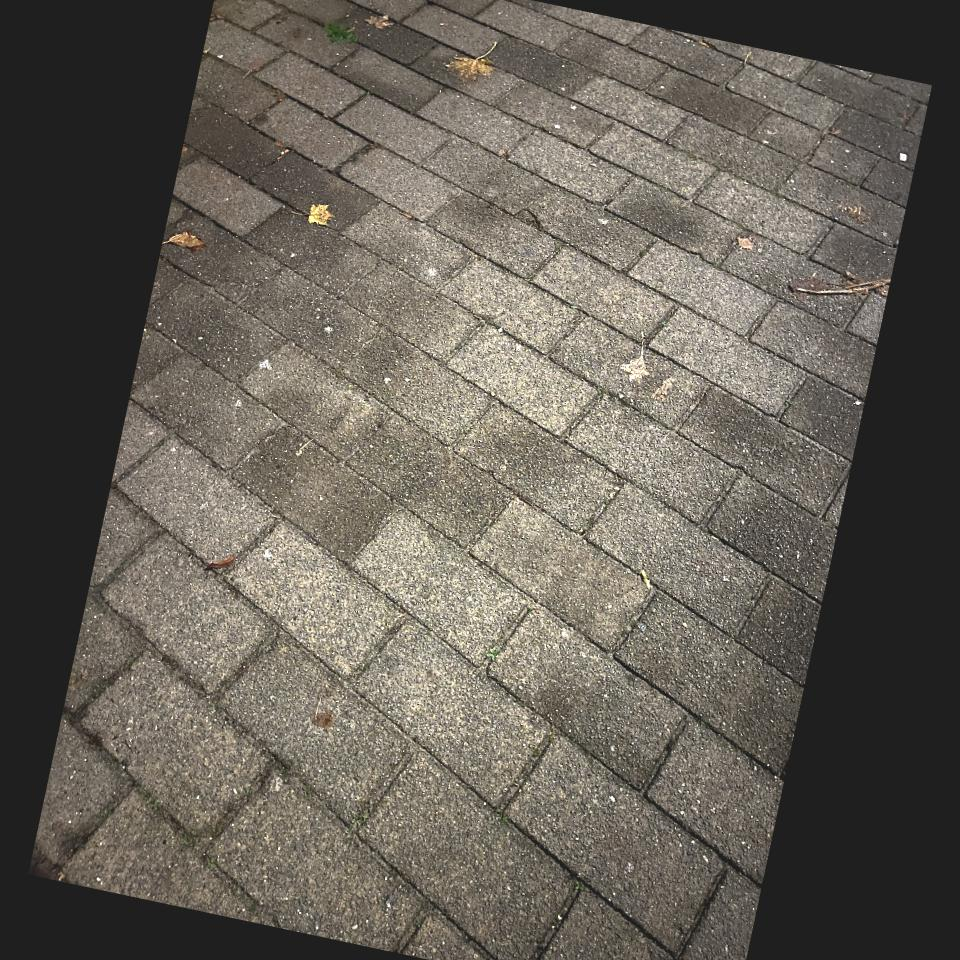weed: (313, 16, 356, 54)
